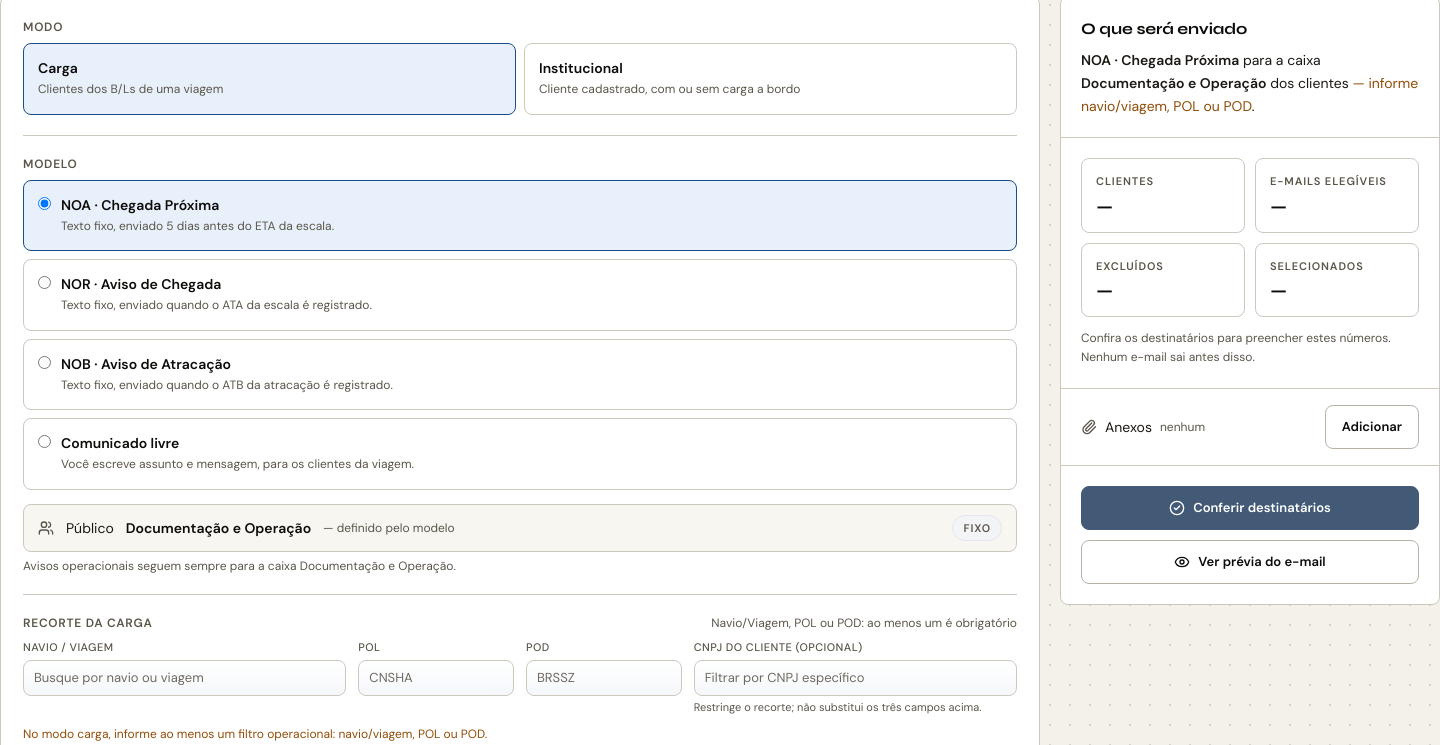
it: Página ClientesComunicacao (UI e fluxos) › na aba de disparo, valida filtros e exibe a conferência de destinatários com aviso de reenvio
(page scrolled)
Expected: the heading "O que será enviado" is shown, [1081, 19, 1247, 38]
Type "COSCO SHIPPING XING WANG" into the field labelled "Navio / Viagem". click: (185, 678)
box: [23, 660, 346, 696]
(page scrolled)
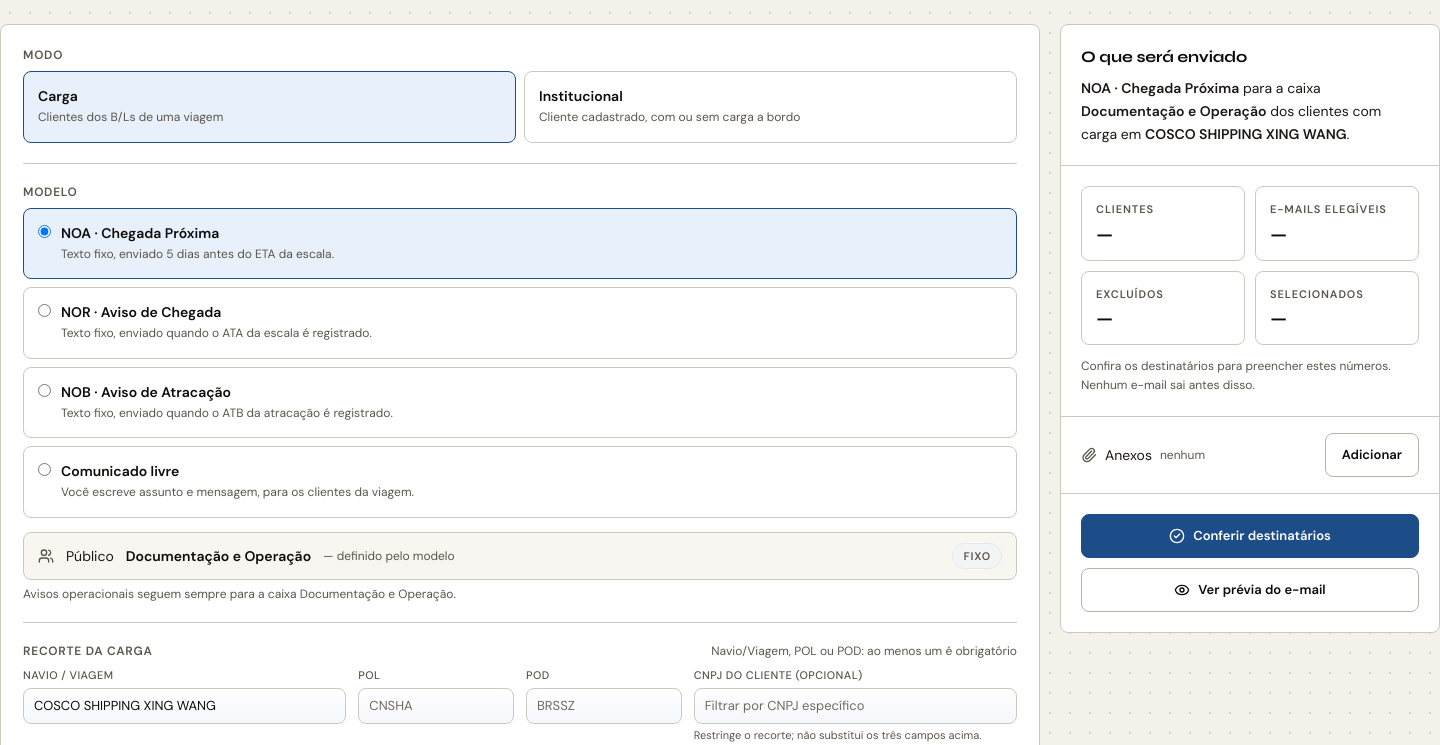
Click the button "Conferir destinatários". click: (1250, 536)
box: [1081, 514, 1419, 558]
(page scrolled)
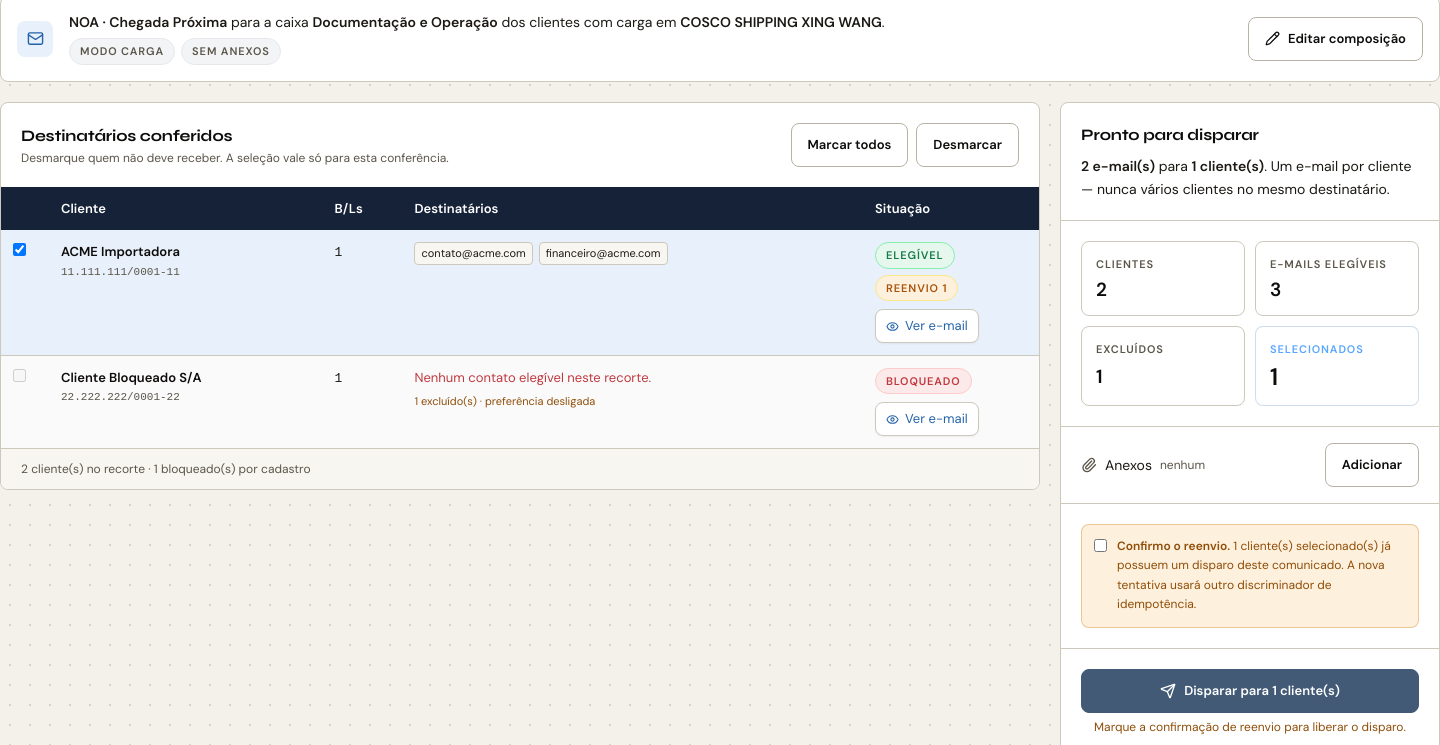
Expected: the heading "Destinatários conferidos" is shown, [21, 126, 232, 145]
Expected: the text "ACME Importadora" is shown, [61, 243, 180, 260]
Expected: the text "contato@acme.com" is shown, [414, 242, 533, 265]
